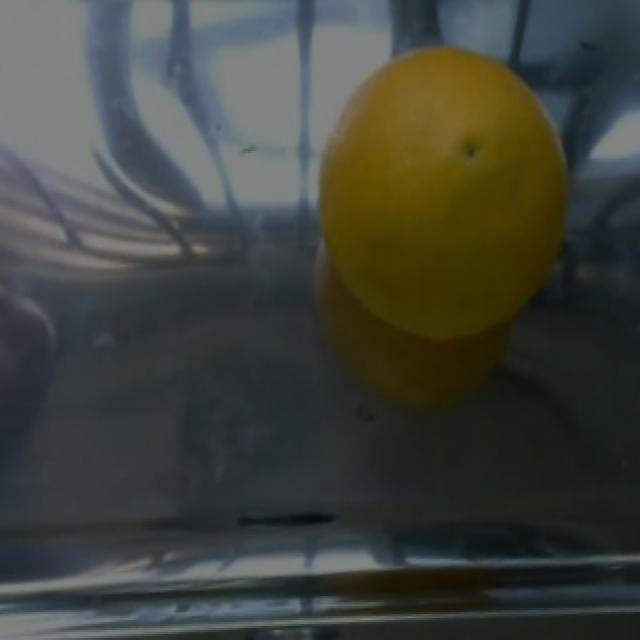Fruit: (307, 24, 569, 310)
